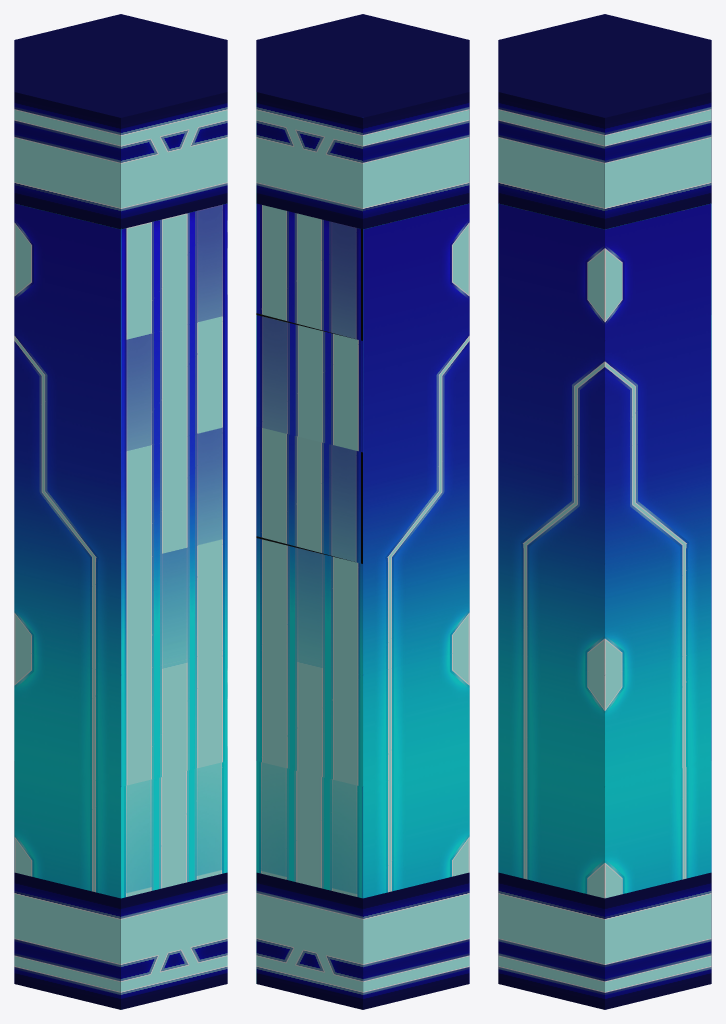
Rendered from PLAG_SimpleBldg_08.obj.
The picture shows the model from 3 angles, left to right: view 1: azimuth 30°, elevation 25°; view 2: azimuth 150°, elevation 25°; view 3: azimuth 270°, elevation 25°; orthographic projection.
Parts seen in each view (by area): view 1: PLAG_SimpleBldg_08; view 2: PLAG_SimpleBldg_08; view 3: PLAG_SimpleBldg_08.
Part boxes in pixels (x1=…): PLAG_SimpleBldg_08: x1=14, y1=14, x2=227, y2=1009; PLAG_SimpleBldg_08: x1=256, y1=14, x2=469, y2=1009; PLAG_SimpleBldg_08: x1=498, y1=14, x2=711, y2=1009.
Size of the model in its own units: 200 by 800 by 173.
